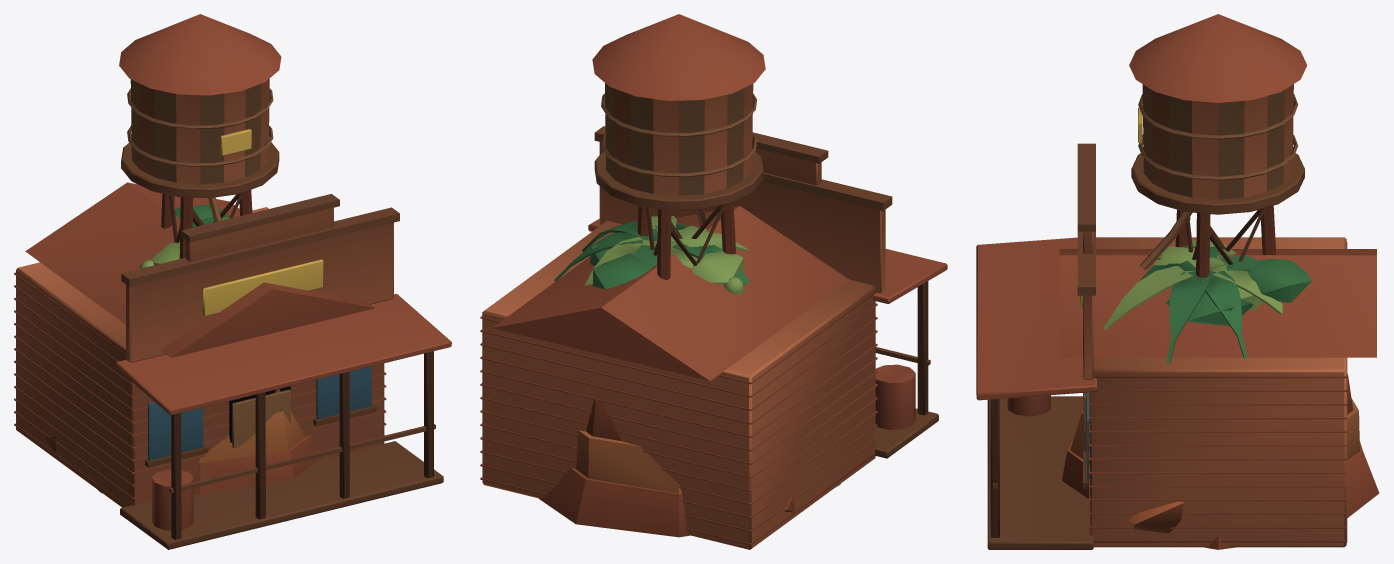
File: kit-polvererosa.glb
3 views of the same model, side by side, from view 1: azimuth 30°, elevation 25°; view 2: azimuth 150°, elevation 25°; view 3: azimuth 270°, elevation 25° (orthographic). The views are drawn at different scales.
Parts seen in each view (by area): view 1: saloon, torre-acqua, mesa, pino; view 2: saloon, torre-acqua, mesa, pino, palma; view 3: saloon, torre-acqua, palma, mesa, pino.
Boxes of the visible parts, x1,y1,x2,y2 form: saloon: [14, 182, 451, 549]; torre-acqua: [119, 14, 281, 258]; mesa: [46, 389, 316, 494]; pino: [150, 204, 229, 265]; saloon: [480, 126, 947, 549]; torre-acqua: [592, 14, 765, 280]; mesa: [538, 400, 840, 537]; pino: [590, 225, 743, 289]; palma: [554, 216, 749, 285]; saloon: [976, 143, 1376, 549]; torre-acqua: [1129, 14, 1307, 277]; palma: [1104, 246, 1282, 363]; mesa: [1062, 373, 1379, 549]; pino: [1154, 240, 1311, 325].
Size of the model in its own units: 4.7 by 6.97 by 5.33.
